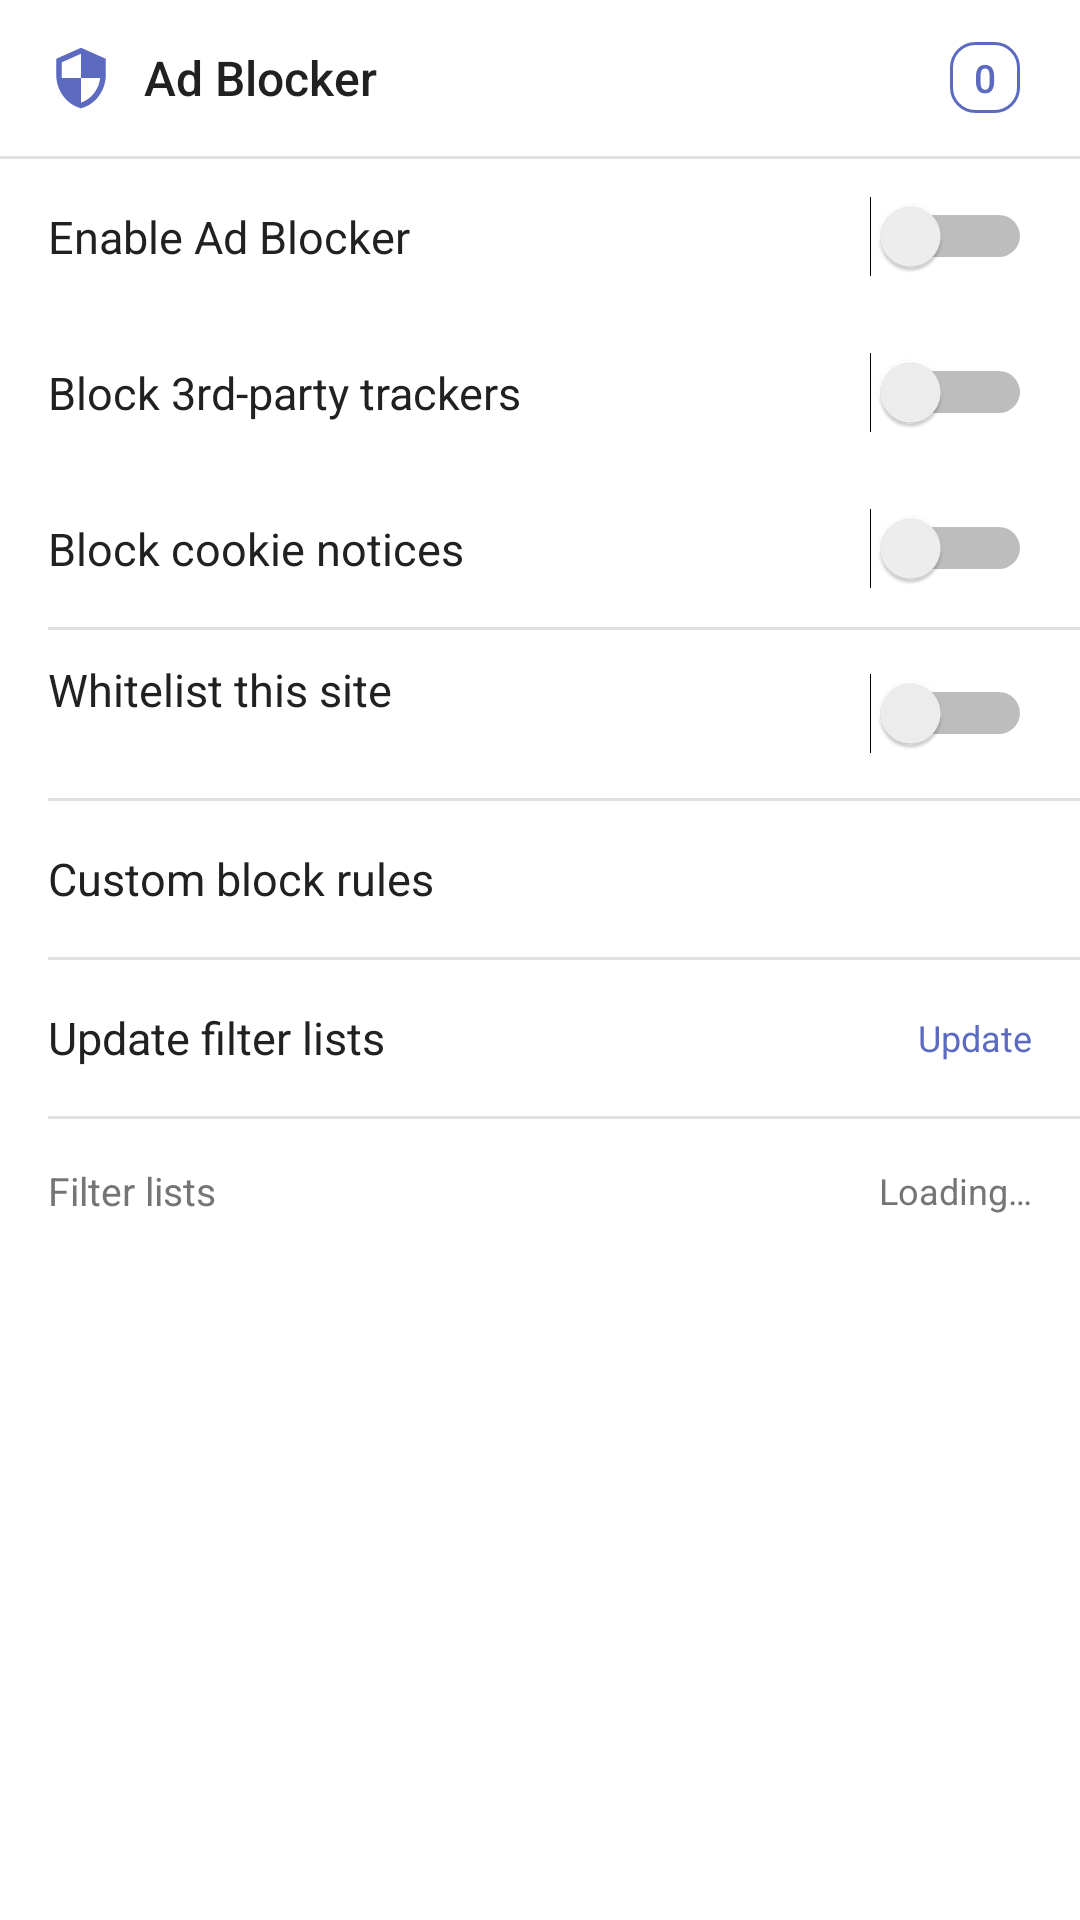

Icons on this 1080*1920 Android screen, each with its box as [left=x1, top=y1, right=x2, bottom=y2]:
shield: [left=56, top=48, right=106, bottom=108]
